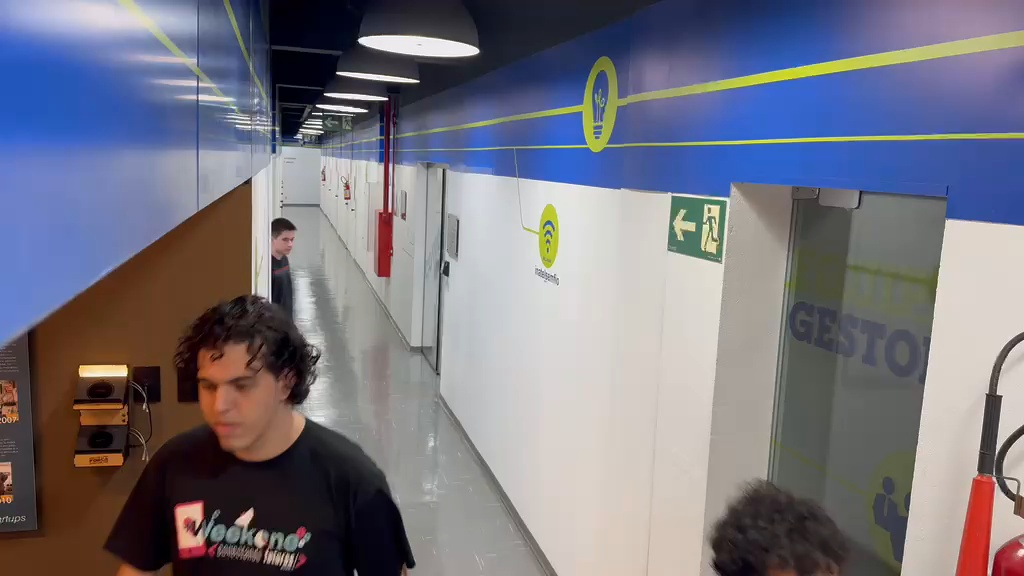person: (101, 293, 417, 572), (707, 479, 871, 573), (270, 218, 296, 314)
